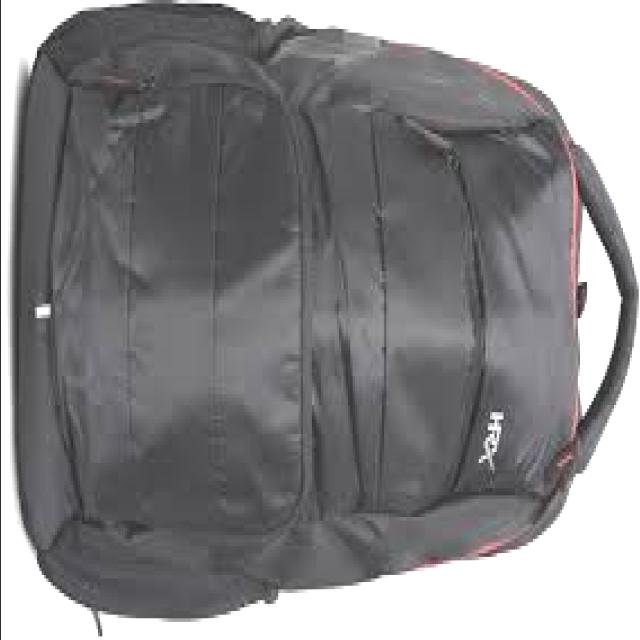backpack: (17, 1, 640, 637)
